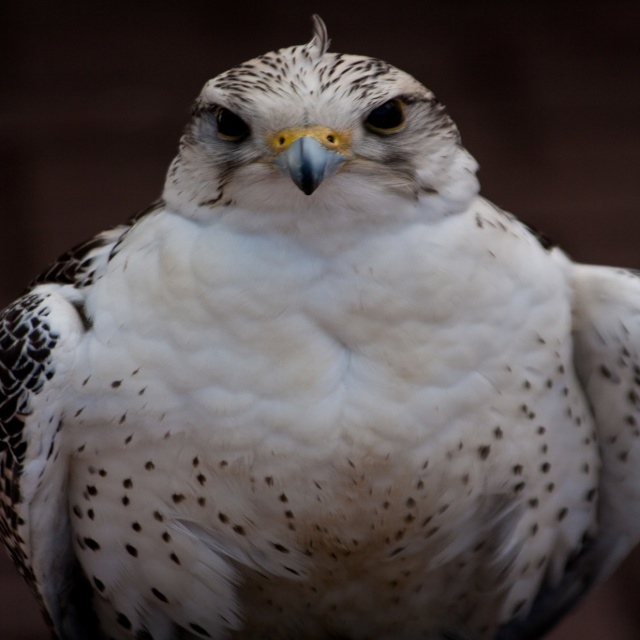Owl: (0, 17, 639, 640)
